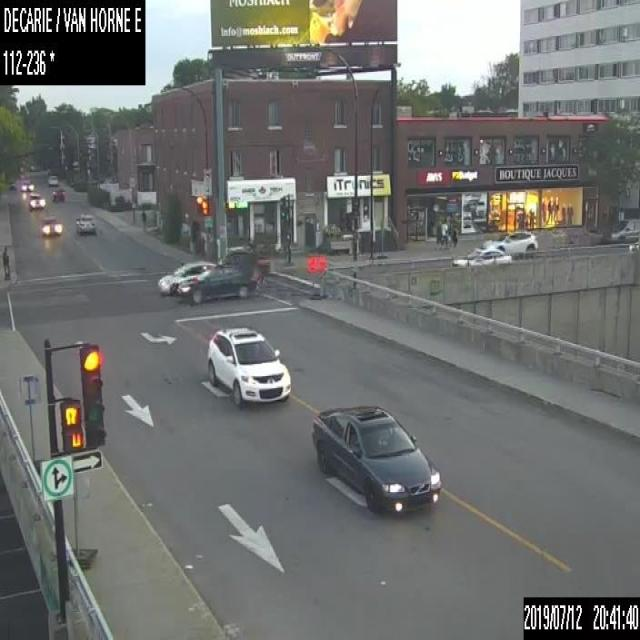construction: (65, 469, 97, 570), (18, 371, 47, 469), (306, 252, 318, 299), (316, 253, 328, 298)
pedestrian: (1, 243, 10, 280), (449, 227, 457, 258), (435, 218, 441, 250), (441, 218, 447, 248), (140, 205, 146, 232)
vehicle: (311, 402, 443, 514), (207, 324, 290, 406), (176, 262, 256, 302), (156, 259, 218, 295), (217, 247, 270, 283), (482, 230, 539, 252), (450, 248, 511, 268), (600, 218, 639, 240), (41, 209, 63, 236), (75, 210, 95, 234), (28, 192, 46, 210), (51, 187, 64, 201), (21, 180, 34, 192), (629, 238, 639, 250), (47, 174, 57, 185)
